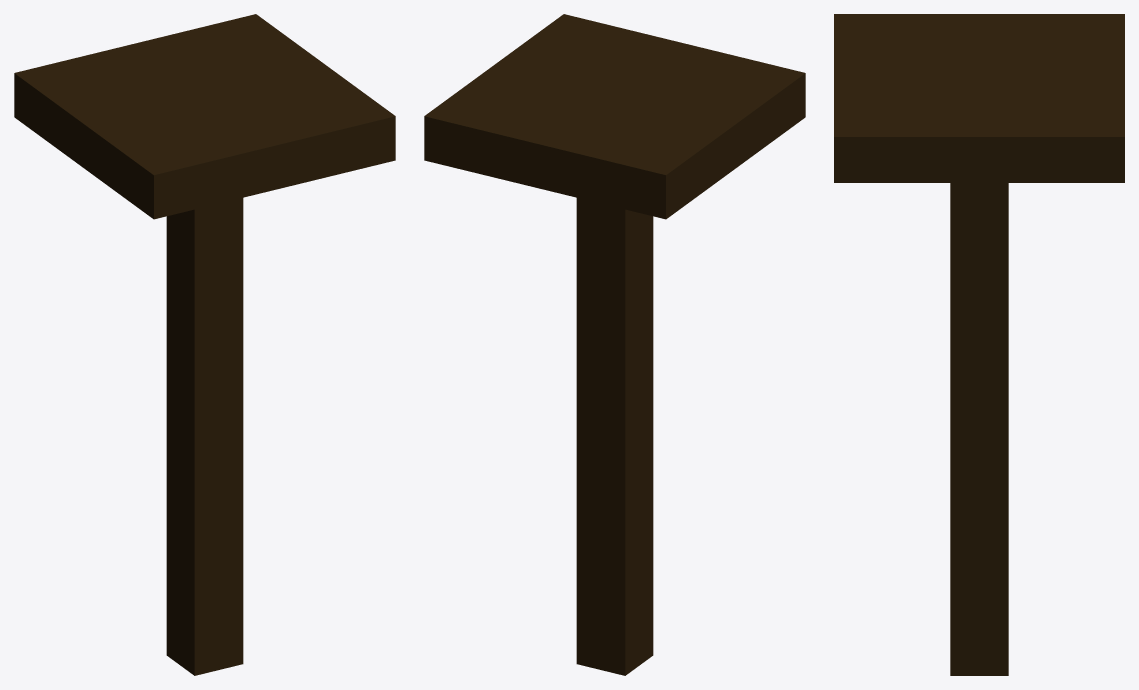
File: stool.gltf
3 renders of one model, left to right at view 1: azimuth 30°, elevation 25°; view 2: azimuth 150°, elevation 25°; view 3: azimuth 270°, elevation 25°, orthographic. The views are drawn at different scales.
Parts seen in each view (by area): view 1: Cube; view 2: Cube; view 3: Cube.
Boxes of the visible parts, x1,y1,x2,y2 form: Cube: (14,14,395,675); Cube: (424,14,805,675); Cube: (834,14,1124,675).
Size of the model in its own units: 0.4473 by 0.9983 by 0.4473.
